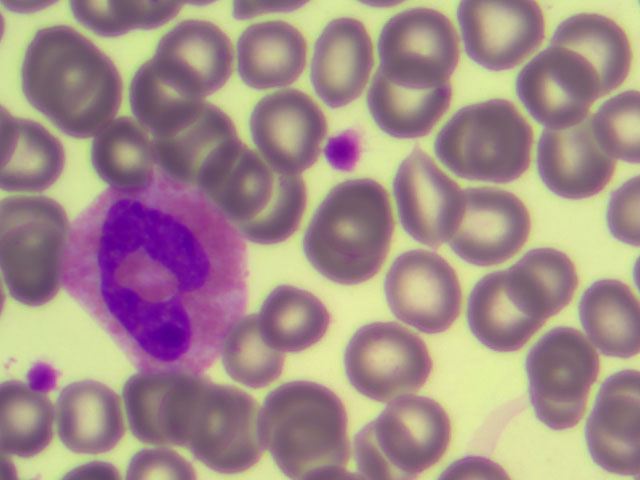Platelets: (327, 134, 358, 169), (27, 364, 52, 386)
RBC: (232, 142, 304, 241), (541, 109, 614, 198), (344, 322, 425, 402), (550, 14, 628, 95), (307, 203, 382, 285), (394, 150, 460, 243), (152, 105, 235, 178), (23, 31, 97, 112), (381, 11, 458, 88), (448, 184, 523, 263), (318, 177, 390, 259), (389, 250, 460, 333), (45, 54, 118, 133), (264, 386, 346, 456), (250, 91, 322, 169), (374, 57, 444, 137), (455, 1, 536, 70), (190, 396, 266, 469), (156, 24, 229, 97), (129, 60, 204, 131), (379, 393, 448, 470), (314, 19, 372, 110), (1, 224, 65, 306), (518, 48, 591, 118), (271, 410, 345, 477), (474, 267, 536, 346), (160, 386, 235, 450), (126, 375, 193, 446), (88, 120, 158, 186), (512, 246, 576, 316), (533, 328, 599, 394), (1, 195, 68, 260), (4, 118, 64, 190), (263, 285, 328, 351), (238, 24, 304, 88), (352, 417, 418, 480), (204, 145, 268, 209), (60, 385, 121, 452), (585, 278, 640, 350), (527, 360, 583, 429), (1, 386, 53, 460), (589, 399, 640, 474), (230, 318, 285, 386), (594, 364, 640, 434), (612, 178, 640, 248), (71, 1, 138, 30), (109, 1, 166, 26)
WBC: (72, 184, 237, 368)
